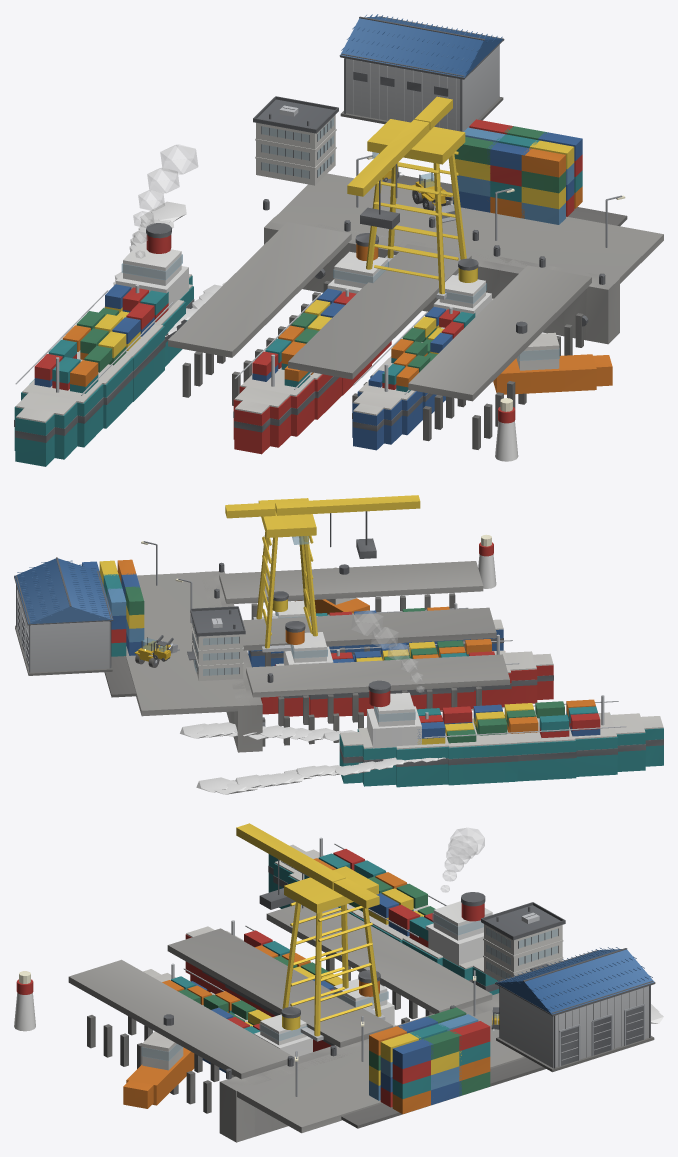
Rendered from Port_P3.fbx.
The picture shows the model from 3 angles, top to bottom: view 1: azimuth 30°, elevation 25°; view 2: azimuth 150°, elevation 25°; view 3: azimuth 270°, elevation 25°; orthographic projection. The views are drawn at different scales.
Parts seen in each view (by area): view 1: Port.ShipOut, Port.Apron, Port.Shed, Port.Pier2, Port.Pier0, Port.Ship0, Port.Containers, Port.Crane0, Port.Ship1, Port.Pier1, Port.Control, Port.QuayWall (+5 smaller); view 2: Port.ShipOut, Port.Apron, Port.Ship0, Port.Shed, Port.Pier0, Port.Pier2, Port.Crane0, Port.Pier1, Port.Wake, Port.Control, Port.Containers, Port.QuayWall (+5 smaller); view 3: Port.Shed, Port.Pier2, Port.ShipOut, Port.Containers, Port.Apron, Port.Crane0, Port.Pier1, Port.Pier0, Port.Control, Port.Ship1, Port.Ship0, Port.QuayWall (+3 smaller).
Boxes of the visible parts, box(x1,y1,x2,y2) form: Port.ShipOut: box(14, 223, 194, 466); Port.Apron: box(270, 173, 663, 283); Port.Shed: box(339, 14, 504, 131); Port.Pier2: box(408, 265, 591, 449); Port.Pier0: box(168, 222, 351, 405); Port.Ship0: box(233, 233, 391, 454); Port.Containers: box(453, 119, 582, 224); Port.Crane0: box(347, 96, 466, 299); Port.Ship1: box(352, 258, 493, 450); Port.Pier1: box(288, 244, 471, 402); Port.Control: box(253, 96, 338, 185); Port.QuayWall: box(264, 216, 619, 344); Port.ShipOut: box(339, 680, 663, 787); Port.Apron: box(104, 571, 249, 716); Port.Ship0: box(261, 621, 553, 717); Port.Shed: box(14, 557, 113, 675); Port.Pier0: box(246, 654, 509, 746); Port.Pier2: box(219, 561, 483, 619); Port.Crane0: box(225, 495, 420, 652); Port.Pier1: box(242, 607, 496, 666); Port.Wake: box(180, 722, 445, 794); Port.Control: box(187, 606, 245, 681); Port.Containers: box(82, 559, 144, 656); Port.QuayWall: box(200, 571, 265, 752); Port.Shed: box(495, 947, 655, 1072); Port.Pier2: box(68, 959, 294, 1113); Port.ShipOut: box(268, 837, 499, 994); Port.Containers: box(369, 1007, 490, 1114); Port.Apron: box(229, 1008, 545, 1133); Port.Crane0: box(236, 823, 385, 1041); Port.Pier1: box(167, 928, 393, 1047); Port.Pier0: box(266, 904, 492, 1023); Port.Control: box(481, 902, 565, 980); Port.Ship1: box(143, 963, 312, 1072); Port.Ship0: box(185, 920, 396, 1051); Port.QuayWall: box(219, 993, 499, 1142).
Bounding box in the file's own units: 12923 × 4118 × 11754.
